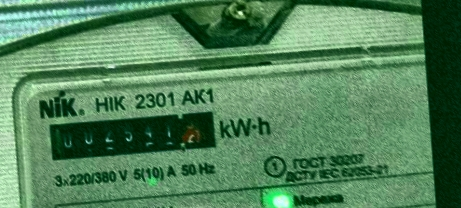0: (60, 126, 74, 148), (80, 123, 94, 145)
1: (161, 115, 174, 139)
2: (100, 120, 116, 143)
4: (141, 116, 154, 138)
5: (120, 119, 135, 143)
6: (184, 129, 196, 142)
screen: (36, 99, 228, 167)
